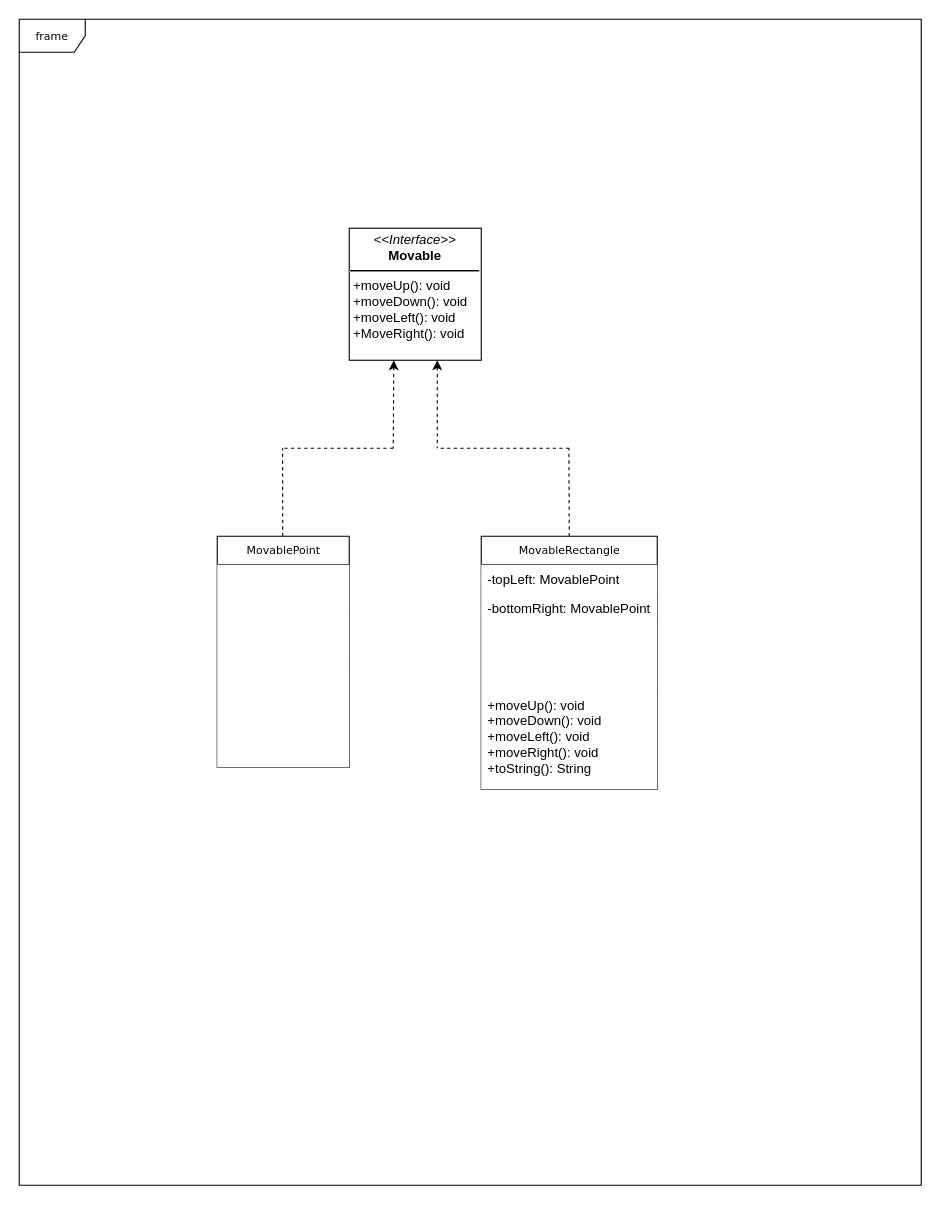
The diagram is 941 pixels wide and 1205 high, and some of its shapes have lost their labels. The shapes that lost their labels are listed below. From the top down, each one's box as (x1, y1, x2, y2) in pixels, then its label:
(217, 564, 349, 613): -x: int -y: int
(217, 613, 349, 661): -xSpeed: int -ySpeed: int
(481, 622, 657, 690): +MovableRectangle (x1: int, y1: int, x2: int, y2: int, xSpeed: int, ySpeed: int)
(217, 661, 349, 767): +MovablePoint(x: int, y: int, xSpeed: int, ySpeed: int) +toString(): String
